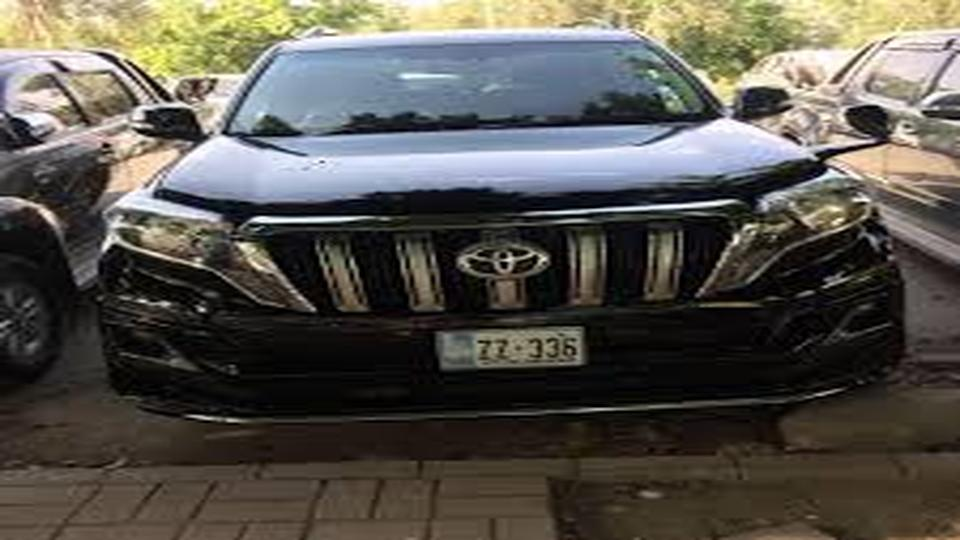NumberPlate: (418, 315, 600, 374)
